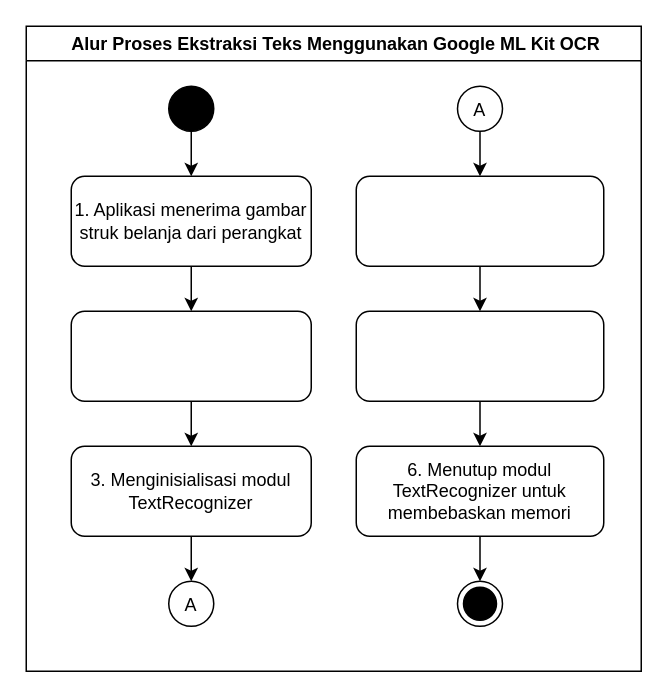
Some shapes in this 668 by 698 pixel diagram are drawn without their labels. Each missing label, with the centre of its shape:
"2. Mengubah tipe file gambar menjadi format InputImage" goes at point (190, 355).
"4. Menjalankan fungsi processImage() secara on-device" goes at point (479, 220).
"5. Mengekstrak dan menggabungkan nilai dari objek RecognizedText" goes at point (479, 355).
